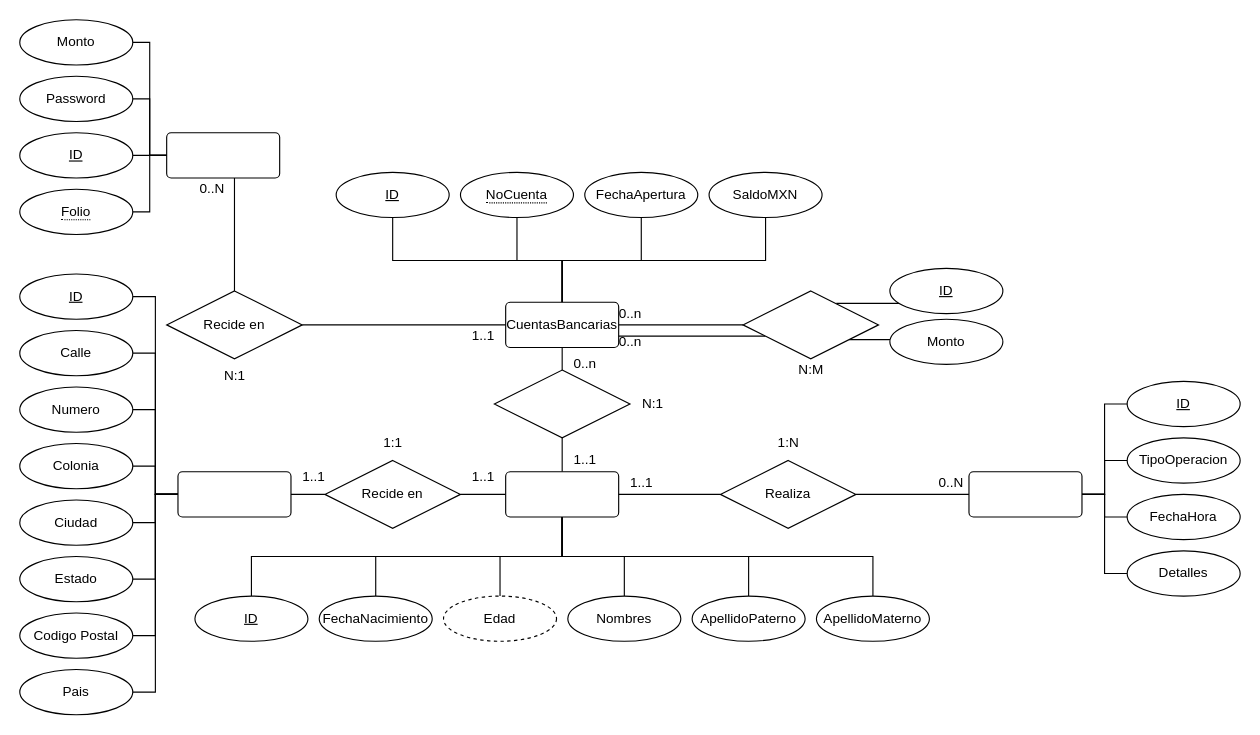
This 1260x735 diagram has some shape labels left out. The centre of each missing label's shape, as x and y in pixels:
"Clientes" goes at point (562, 494).
"Domicilios" goes at point (234, 494).
"Operaciones" goes at point (1025, 494).
"Posee" goes at point (561, 403).
"RetirosSinCuenta" goes at point (223, 155).
"Transferencia" goes at point (810, 324).
